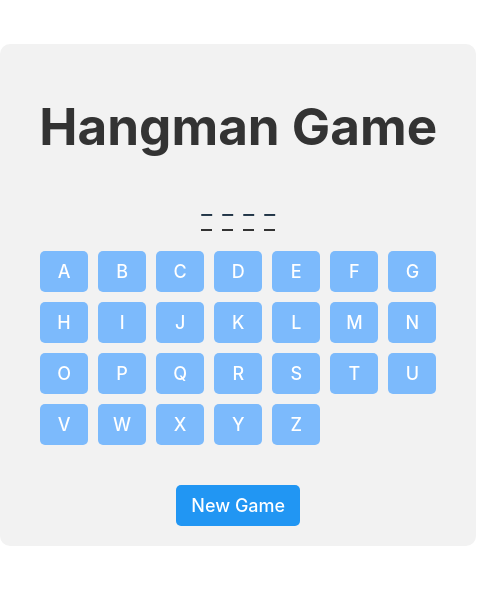
Test: HangmanGame › user wins the game when all letters are guessed
The width and height of the screenshot is (493, 591).
What coordinates should you click on to do the following:
click the button "T"
I would click on:
 (354, 374)
Its box is [330,354,378,394].
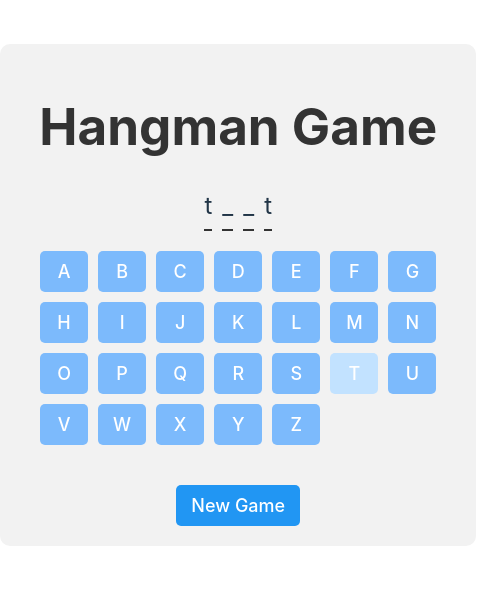
What coordinates should you click on to do the following:
click the button "E"
I would click on:
 (296, 272)
Its box is [272,252,320,292].
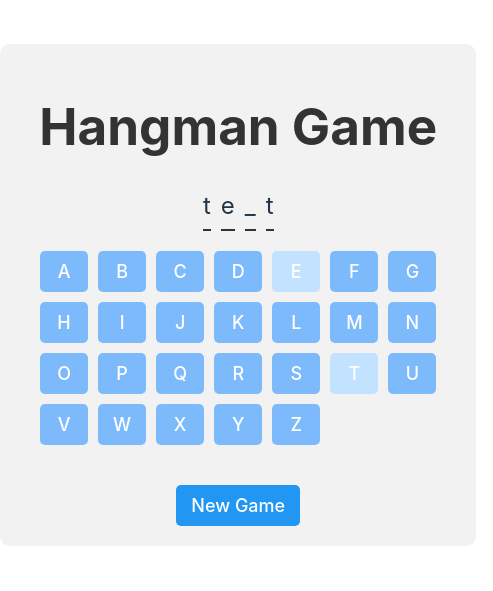
What coordinates should you click on to do the following:
click the button "S"
I would click on:
 (296, 374)
Its box is [272,354,320,394].
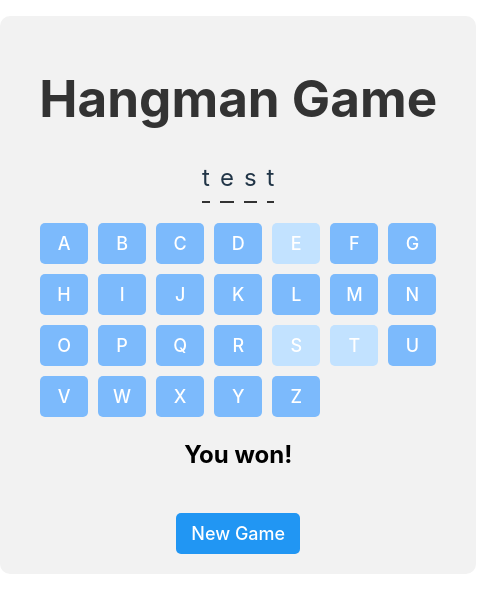
Now the text "You won!" is shown, box [184,440,292,470]
